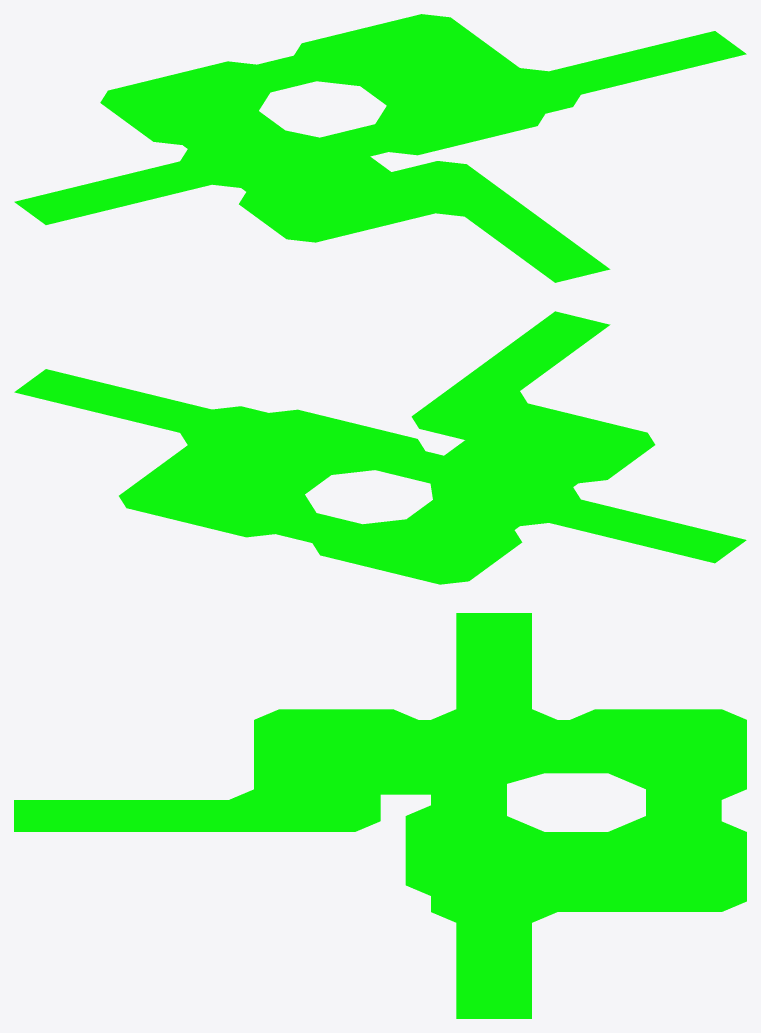
File: s06a_tc3-floor.glb
3 renders of one model, top to bottom at view 1: azimuth 30°, elevation 25°; view 2: azimuth 150°, elevation 25°; view 3: azimuth 270°, elevation 25°, orthographic. The views are drawn at different scales.
Visible parts, largest first — view 1: collision_floor-colonly; view 2: collision_floor-colonly; view 3: collision_floor-colonly.
Part boxes in pixels (<box>): collision_floor-colonly: <box>14,14,746,282</box>; collision_floor-colonly: <box>14,311,746,584</box>; collision_floor-colonly: <box>14,613,746,1018</box>.
Bounding box in the file's own units: 76 × 0 × 58.
